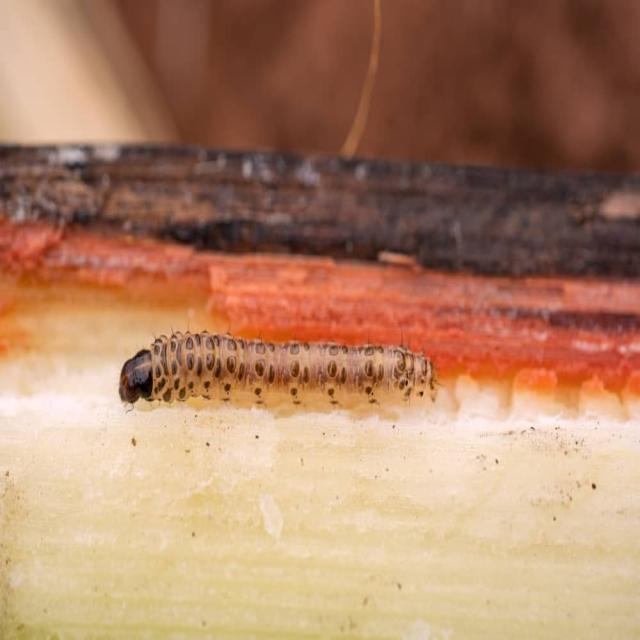cornborer-Larva-: (104, 294, 457, 441)
